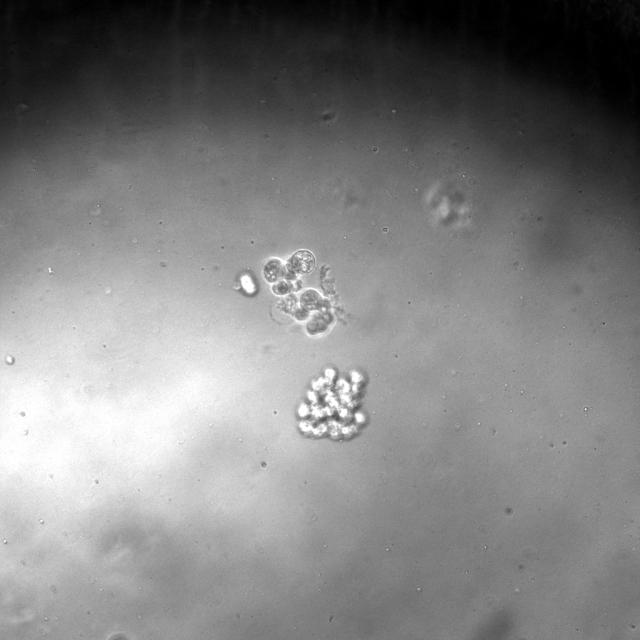organoid: (263, 250, 348, 338), (296, 367, 368, 440), (234, 269, 258, 297), (5, 354, 15, 365)
